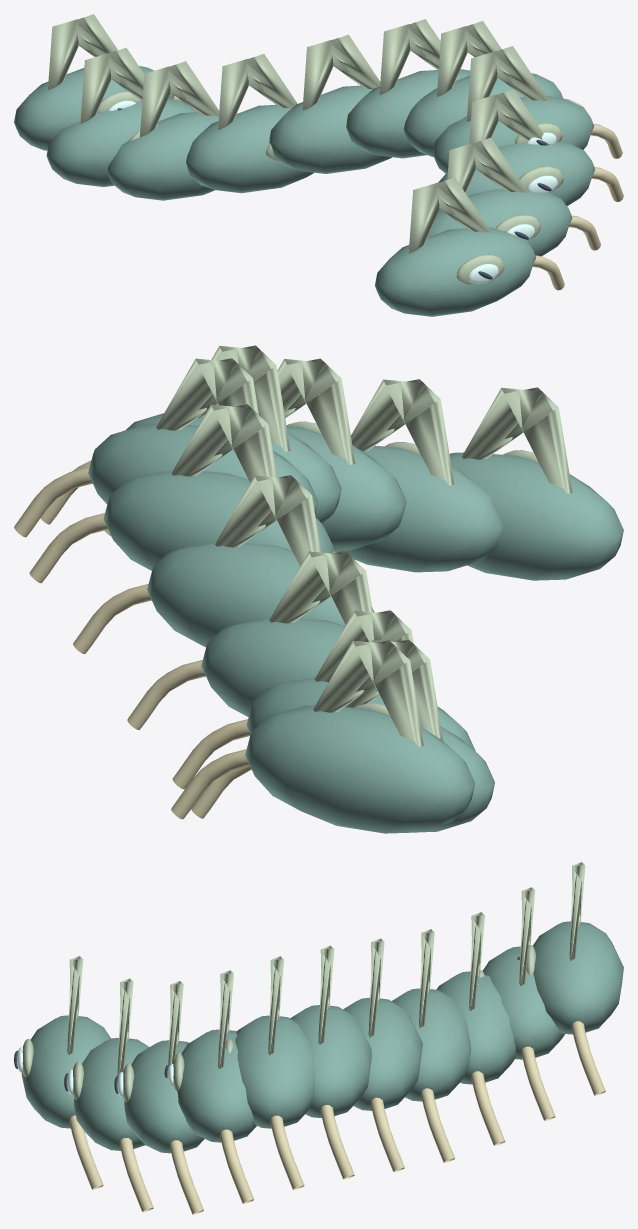
Rendered from bio_ribbon_colony_03_far.glb.
3 renders of one model, top to bottom at view 1: azimuth 30°, elevation 25°; view 2: azimuth 150°, elevation 25°; view 3: azimuth 270°, elevation 25°, orthographic. The views are drawn at different scales.
Parts seen in each view (by area): view 1: Overlapping folded ribbon, Overlapping folded ribbon.007, Overlapping folded ribbon.006, Overlapping folded ribbon.008, Overlapping folded ribbon.009, Overlapping folded ribbon.005, Overlapping folded ribbon.001, Overlapping folded ribbon.010, Overlapping folded ribbon.002, Overlapping folded ribbon.003, Raised pleated edge, Overlapping folded ribbon.004 (+15 smaller); view 2: Overlapping folded ribbon.010, Overlapping folded ribbon, Overlapping folded ribbon.006, Overlapping folded ribbon.001, Overlapping folded ribbon.005, Overlapping folded ribbon.007, Overlapping folded ribbon.002, Overlapping folded ribbon.004, Raised pleated edge.010, Raised pleated edge, Raised pleated edge.001, Raised pleated edge.006 (+17 smaller); view 3: Overlapping folded ribbon.010, Overlapping folded ribbon.004, Overlapping folded ribbon.003, Overlapping folded ribbon.005, Overlapping folded ribbon.006, Overlapping folded ribbon.007, Overlapping folded ribbon, Overlapping folded ribbon.002, Overlapping folded ribbon.001, Overlapping folded ribbon.008, Overlapping folded ribbon.009, Raised pleated edge.003 (+21 smaller).
Part boxes in pixels (<box>): Overlapping folded ribbon: <box>375,227,535,316</box>; Overlapping folded ribbon.007: <box>186,104,313,193</box>; Overlapping folded ribbon.006: <box>269,85,391,173</box>; Overlapping folded ribbon.008: <box>107,112,218,200</box>; Overlapping folded ribbon.009: <box>46,99,197,186</box>; Overlapping folded ribbon.005: <box>346,69,470,158</box>; Overlapping folded ribbon.001: <box>427,189,572,256</box>; Overlapping folded ribbon.010: <box>14,66,174,150</box>; Overlapping folded ribbon.002: <box>438,141,595,205</box>; Overlapping folded ribbon.003: <box>433,95,594,173</box>; Raised pleated edge: <box>408,177,504,284</box>; Overlapping folded ribbon.004: <box>403,73,563,156</box>; Overlapping folded ribbon.010: <box>245,705,475,833</box>; Overlapping folded ribbon: <box>449,452,623,580</box>; Overlapping folded ribbon.006: <box>147,543,374,646</box>; Overlapping folded ribbon.001: <box>335,445,503,572</box>; Overlapping folded ribbon.005: <box>103,470,333,570</box>; Overlapping folded ribbon.007: <box>201,618,344,716</box>; Overlapping folded ribbon.002: <box>286,426,406,551</box>; Overlapping folded ribbon.004: <box>88,423,318,514</box>; Raised pleated edge.010: <box>313,640,423,746</box>; Raised pleated edge: <box>462,387,572,493</box>; Raised pleated edge.001: <box>351,379,454,485</box>; Raised pleated edge.006: <box>215,475,321,565</box>; Overlapping folded ribbon.010: <box>533,921,623,1034</box>; Overlapping folded ribbon.004: <box>235,1015,315,1128</box>; Overlapping folded ribbon.003: <box>177,1029,256,1142</box>; Overlapping folded ribbon.005: <box>290,1005,371,1117</box>; Overlapping folded ribbon.006: <box>343,997,422,1110</box>; Overlapping folded ribbon.007: <box>392,988,470,1101</box>; Overlapping folded ribbon: <box>21,1015,110,1128</box>; Overlapping folded ribbon.002: <box>124,1040,204,1153</box>; Overlapping folded ribbon.001: <box>74,1038,149,1150</box>; Overlapping folded ribbon.008: <box>436,971,516,1084</box>; Overlapping folded ribbon.009: <box>483,946,564,1059</box>; Raised pleated edge.003: <box>173,970,233,1091</box>.
Size of the model in its own units: 2.81 by 1.23 by 3.04.
